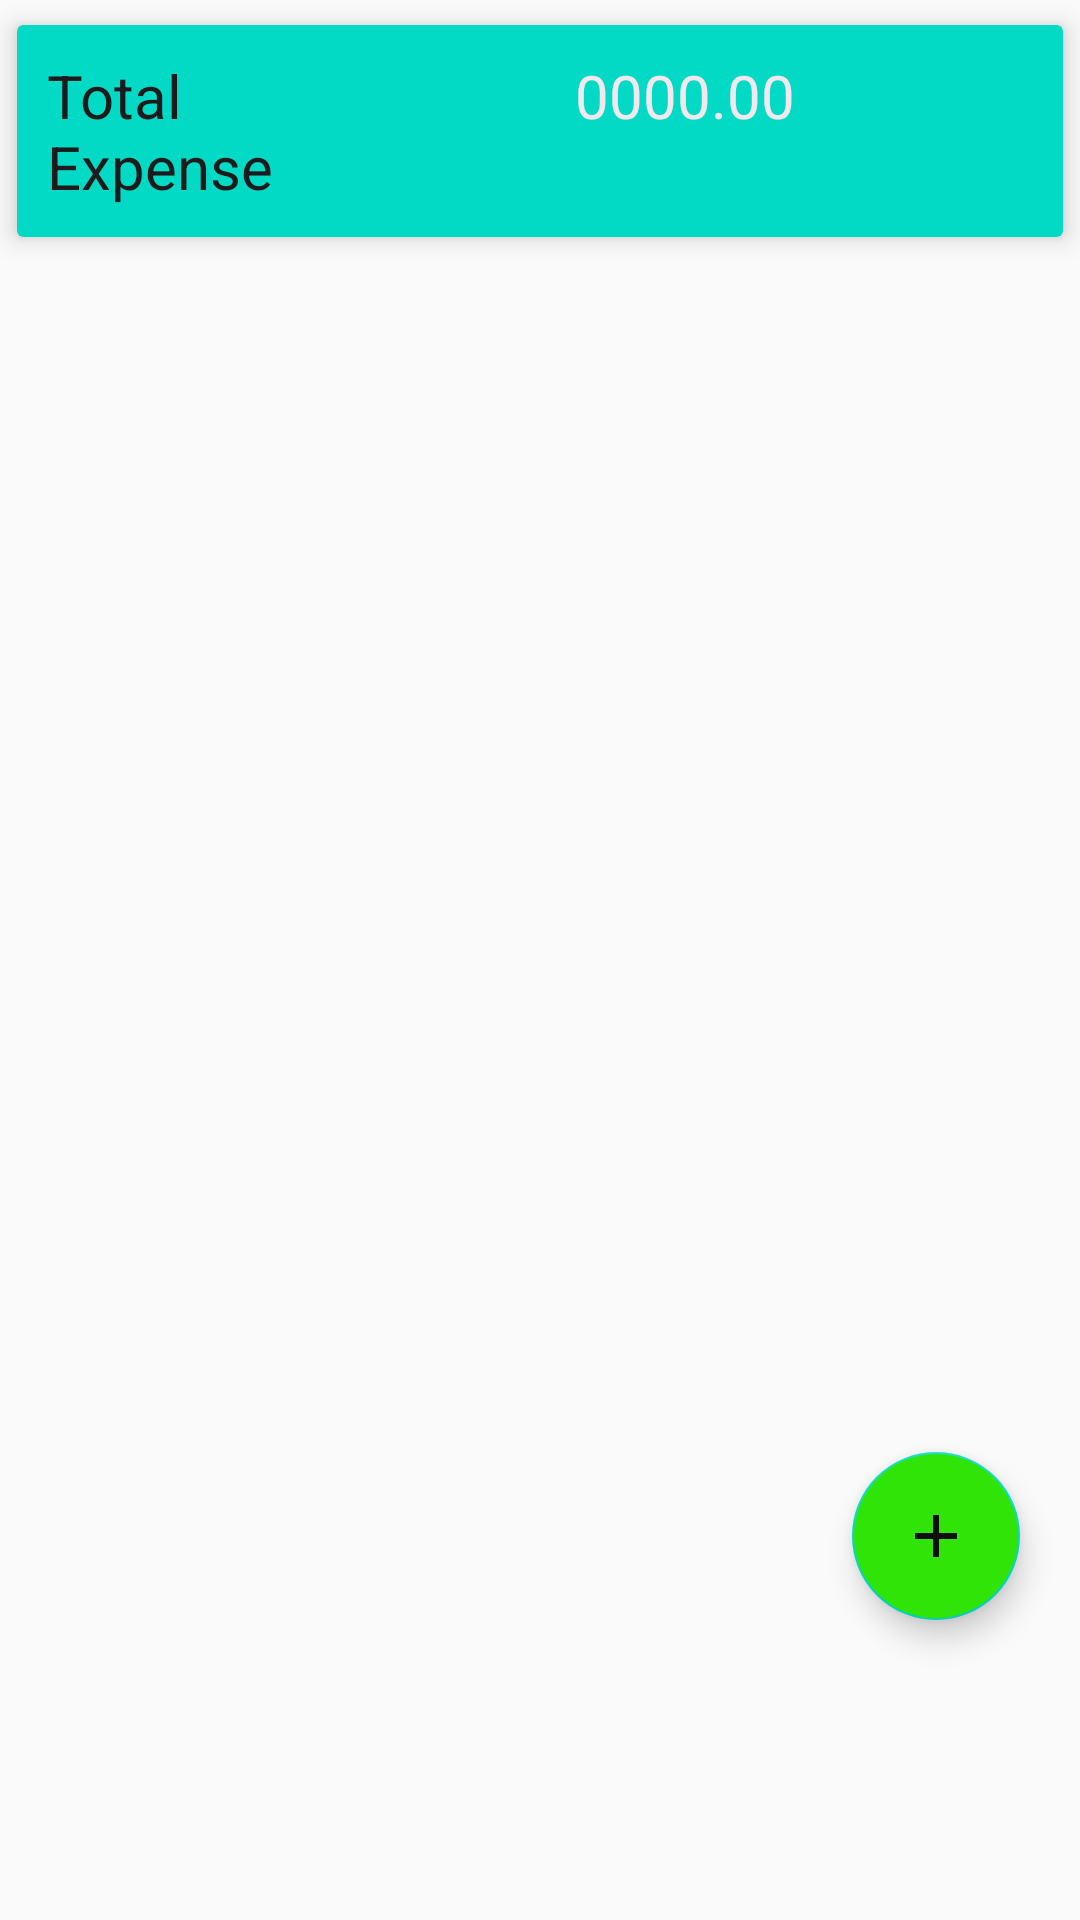

Named icons in this screenshot (1080px x 1920px) and their centers, point (x, y):
add: point (936, 1536)
